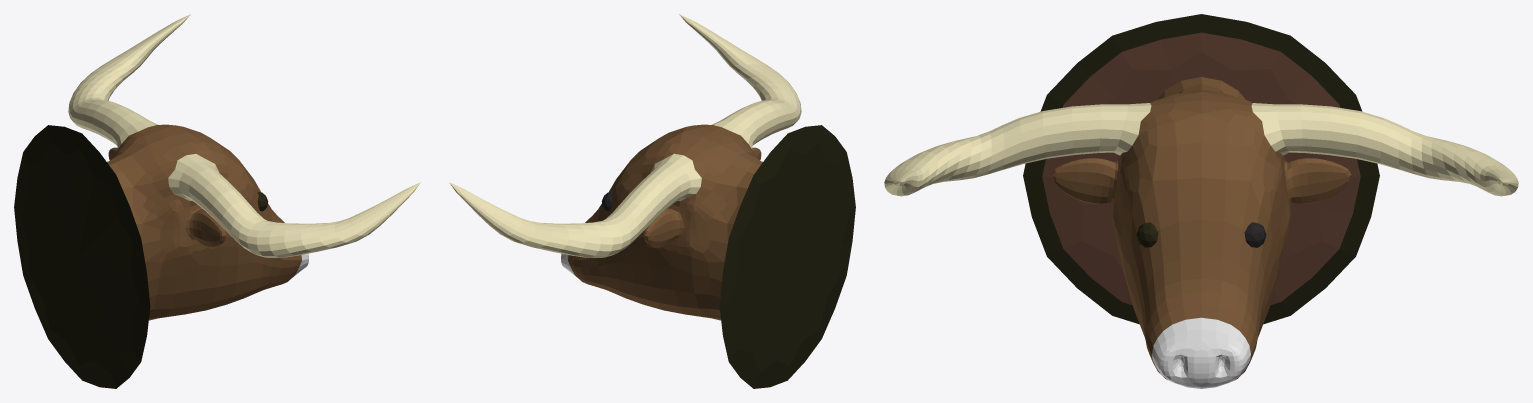
Rendered from Toro .fbx.
3 renders of one model, left to right at view 1: azimuth 30°, elevation 25°; view 2: azimuth 150°, elevation 25°; view 3: azimuth 270°, elevation 25°, orthographic. The views are drawn at different scales.
Parts seen in each view (by area): view 1: Plane, Circle.001; view 2: Plane, Circle.001; view 3: Plane, Circle, Circle.001.
Boxes of the visible parts, left/top/right/bottom form: Plane: left=68, top=14, right=420, bottom=320; Circle.001: left=14, top=125, right=150, bottom=388; Plane: left=449, top=14, right=801, bottom=320; Circle.001: left=719, top=125, right=855, bottom=388; Plane: left=884, top=77, right=1518, bottom=388; Circle: left=1042, top=32, right=1360, bottom=305; Circle.001: left=1023, top=14, right=1379, bottom=324.
Size of the model in its own units: 2.04 by 2.12 by 3.76.
